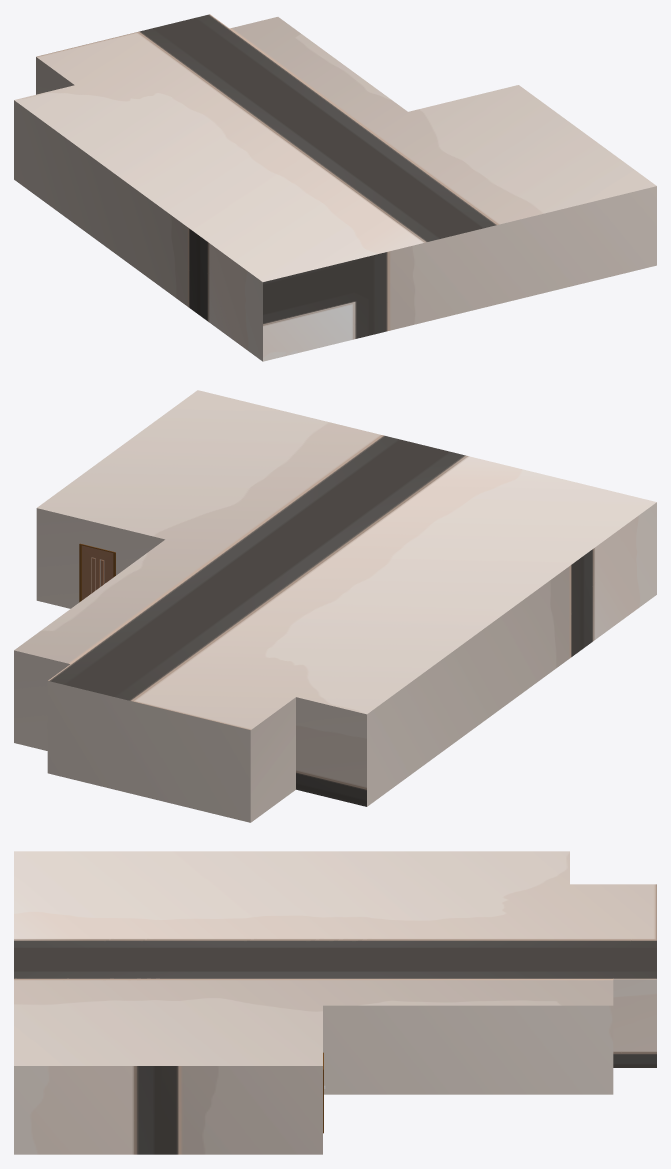
The model's file is client work room.fbx.
The picture shows the model from 3 angles, top to bottom: view 1: azimuth 30°, elevation 25°; view 2: azimuth 150°, elevation 25°; view 3: azimuth 270°, elevation 25°; orthographic projection. The views are drawn at different scales.
Visible parts, largest first — view 1: work room; view 2: work room; view 3: work room.
Part boxes in pixels (left/top/right/bottom): work room: left=14, top=14, right=656, bottom=361; work room: left=14, top=390, right=656, bottom=822; work room: left=14, top=851, right=656, bottom=1154.
Bounding box in the file's own units: 1656 × 319 × 2094.
Materials: 5 (5 with a texture image).
